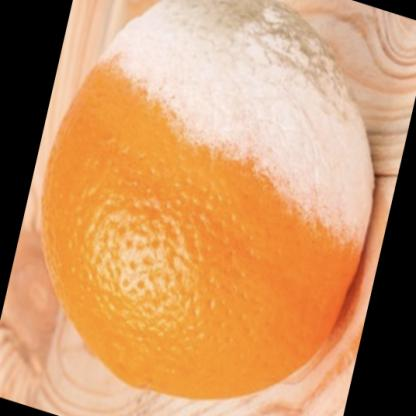rotten: (45, 1, 378, 398)
